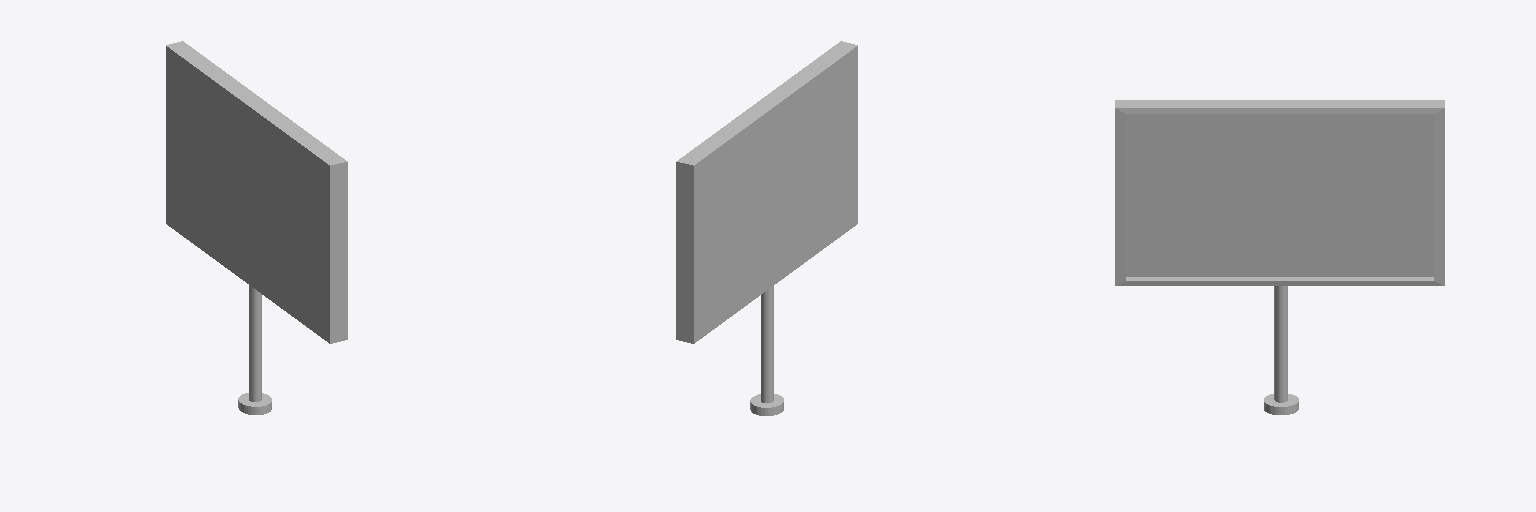
The model's file is contador.obj.
3 views of the same model, side by side, from view 1: azimuth 30°, elevation 25°; view 2: azimuth 150°, elevation 25°; view 3: azimuth 270°, elevation 25° (orthographic).
Parts seen in each view (by area): view 1: Cube; view 2: Cube; view 3: Cube.
Part boxes in pixels (bbox=[...]): Cube: bbox=[166, 41, 347, 414]; Cube: bbox=[676, 41, 857, 415]; Cube: bbox=[1115, 100, 1444, 414].
Bounding box in the file's own units: 0.8405 × 8.45 × 8.27.